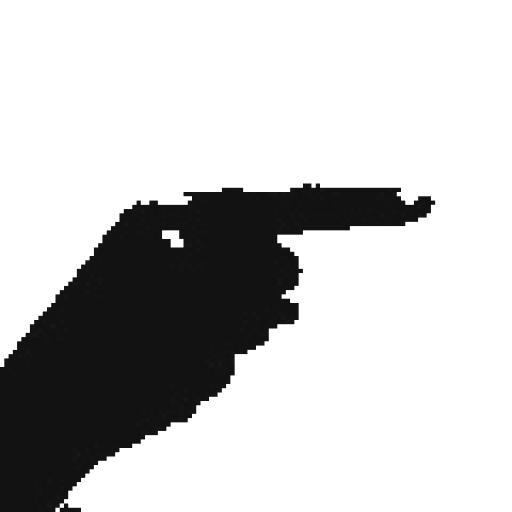index_right: (0, 179, 435, 401)
